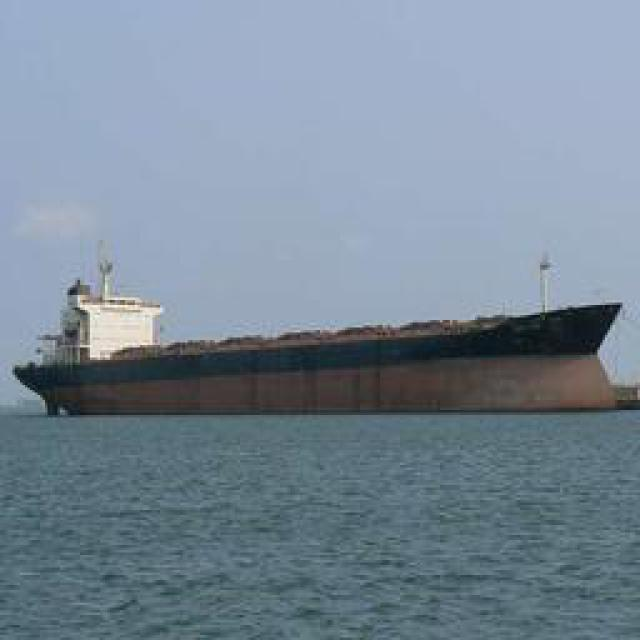Ship: (20, 308, 618, 416)
